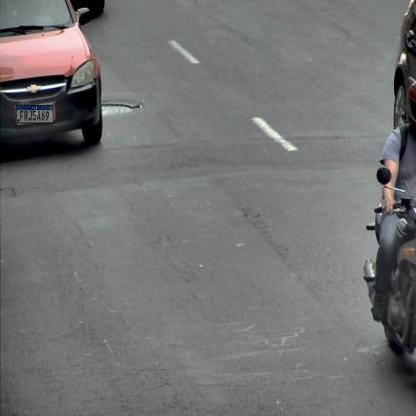PlacaM: (16, 105, 54, 123)
